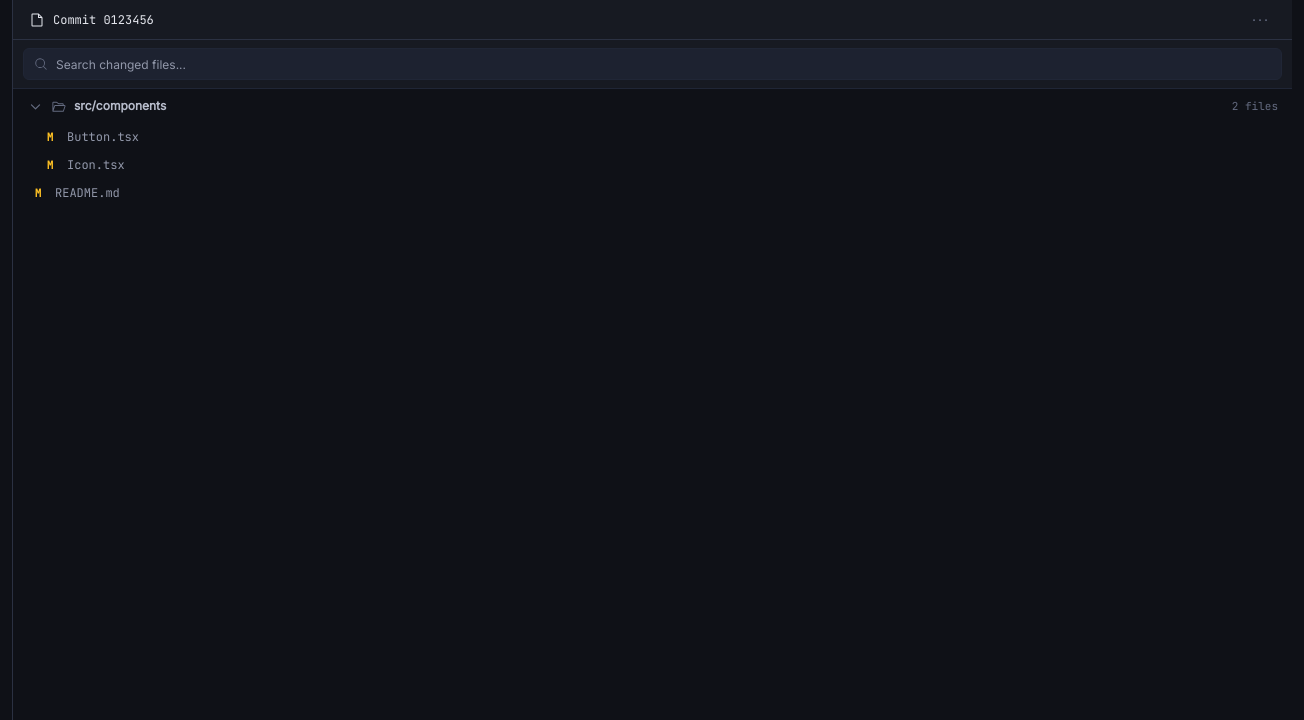
Test: DiffPanel commit file tree › filters commit files by path and keeps matching folders
This screenshot has width=1304, height=720.
Step 1. Type "button" into the field labelled "Search changed files..." → (664, 64), box [56,56,1271,72]
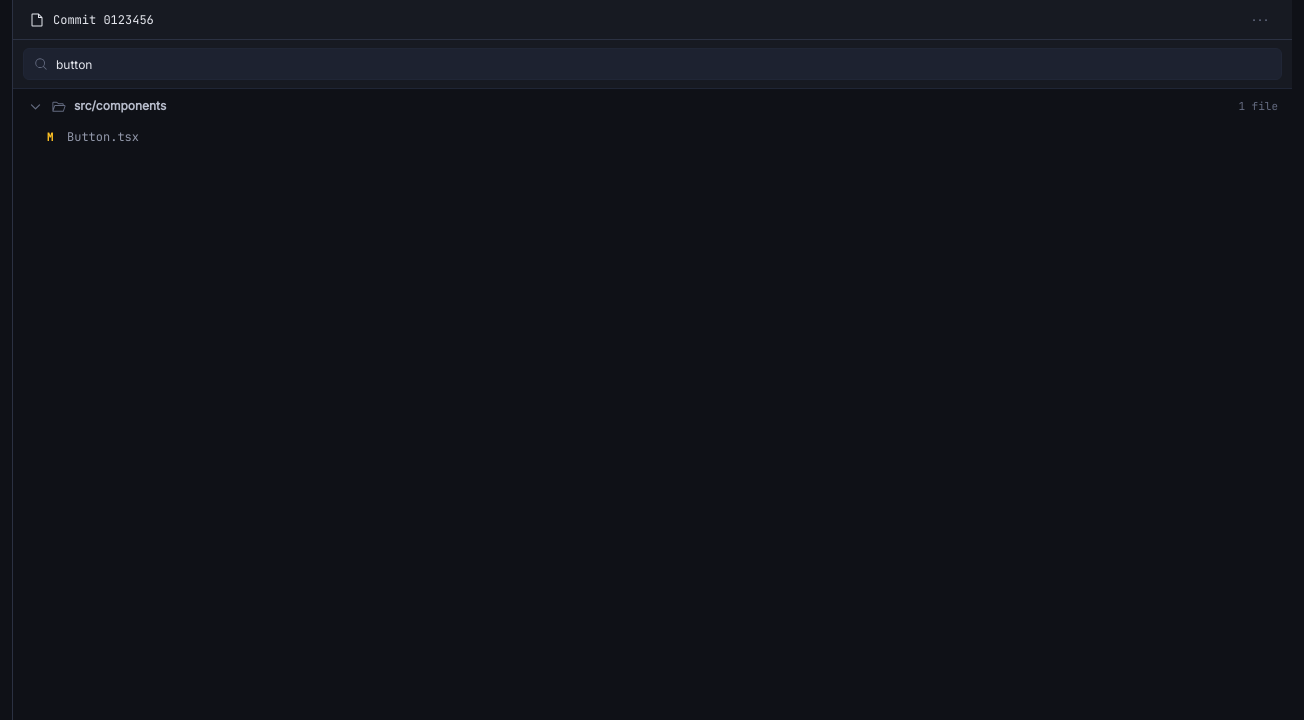
Expected: the text "Button.tsx" is shown, [67,129,139,145]
Expected: the button "Icon.tsx" is gone
Expected: the button "README.md" is gone
